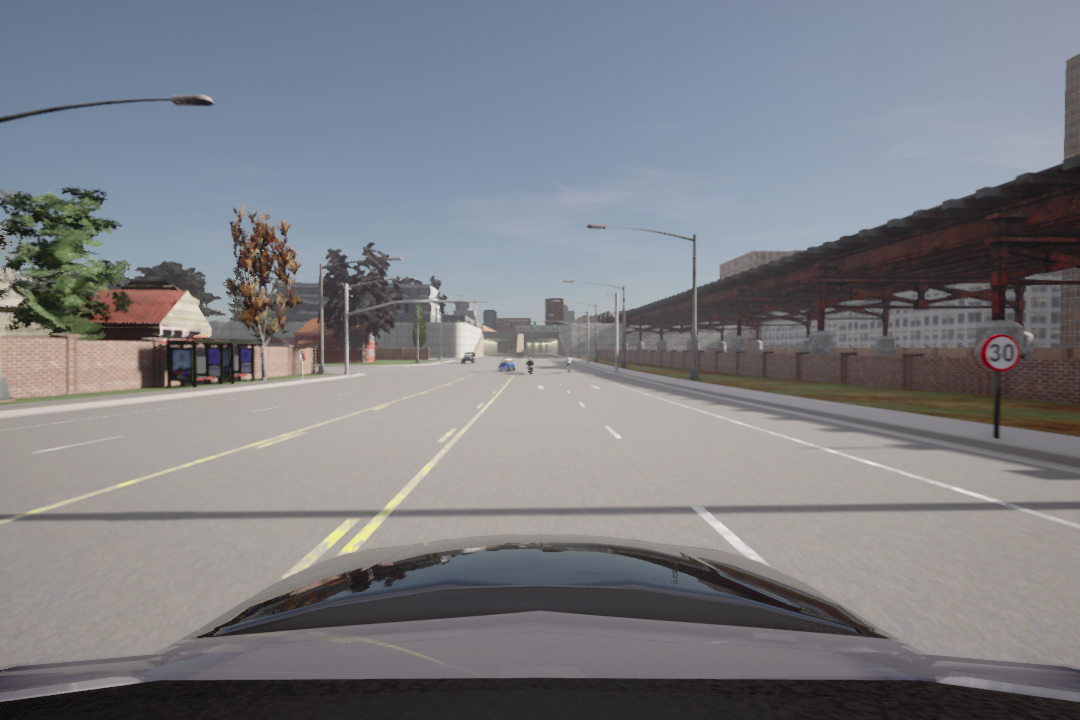TrafficSign_speed: (983, 333, 1022, 376)
